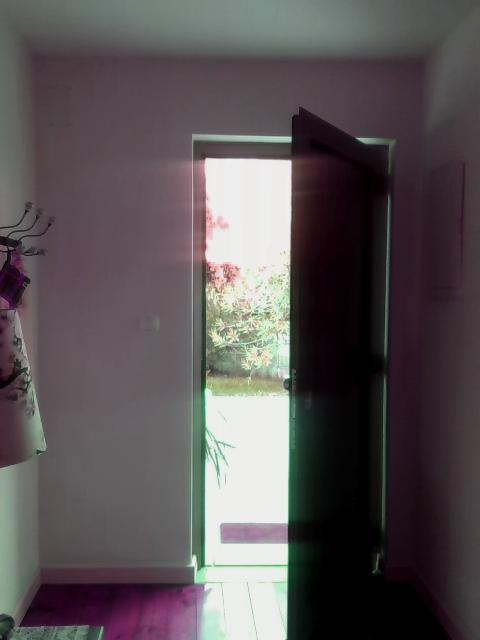semi_door: (189, 104, 396, 573)
